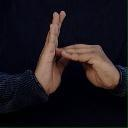hand: (59, 43, 120, 90), (35, 11, 67, 94)
